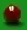brown: (0, 0, 27, 30)
